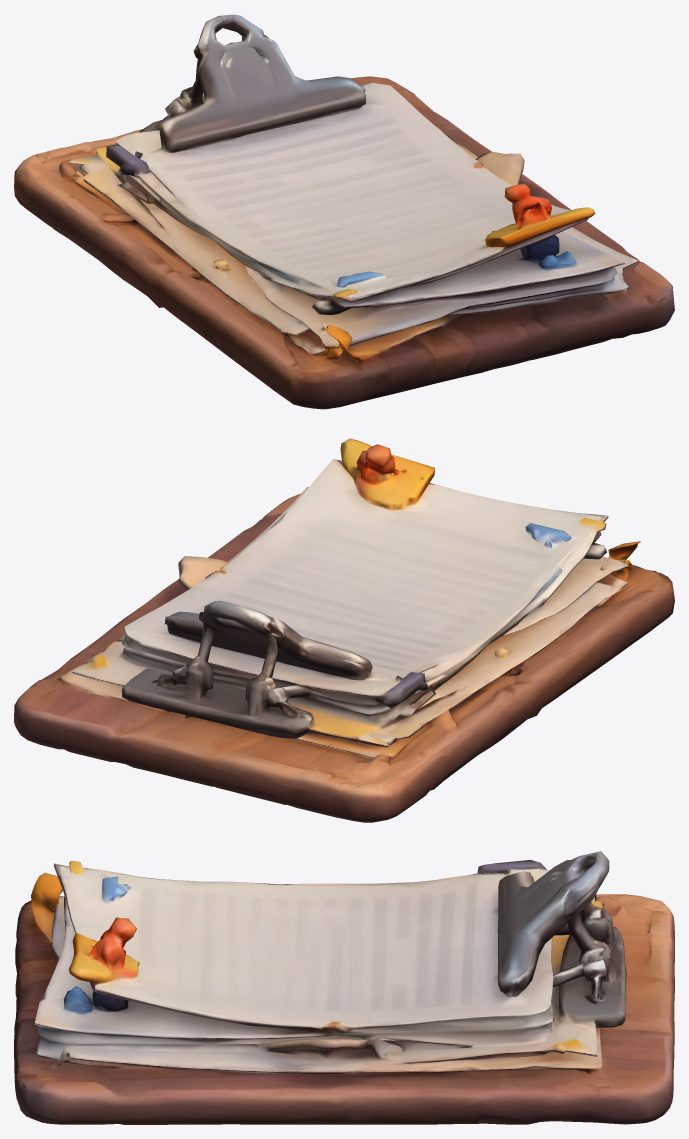
Rendered from tripo_convert_74910b8e-00e6-47f5-87dd-8d8f19445050.fbx.
The picture shows the model from 3 angles, top to bottom: view 1: azimuth 30°, elevation 25°; view 2: azimuth 150°, elevation 25°; view 3: azimuth 270°, elevation 25°; orthographic projection. The views are drawn at different scales.
Visible parts, largest first — view 1: tripo_node_74910b8e; view 2: tripo_node_74910b8e; view 3: tripo_node_74910b8e.
Boxes of the visible parts, left/top/right/bottom form: tripo_node_74910b8e: left=14, top=14, right=674, bottom=409; tripo_node_74910b8e: left=14, top=438, right=674, bottom=822; tripo_node_74910b8e: left=14, top=851, right=674, bottom=1124.
Bounding box in the file's own units: 0.7261 × 0.2929 × 1.
1 material, 1 textured.
